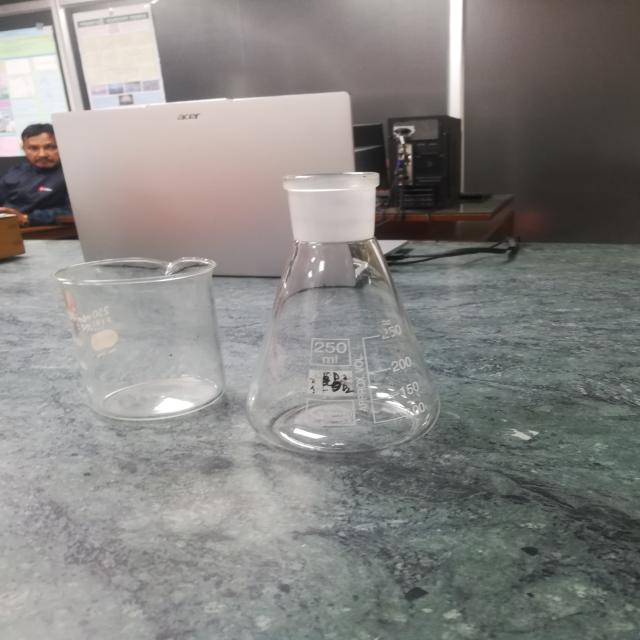Beaker: (46, 221, 232, 466)
Conical_Flask: (243, 132, 454, 486)
